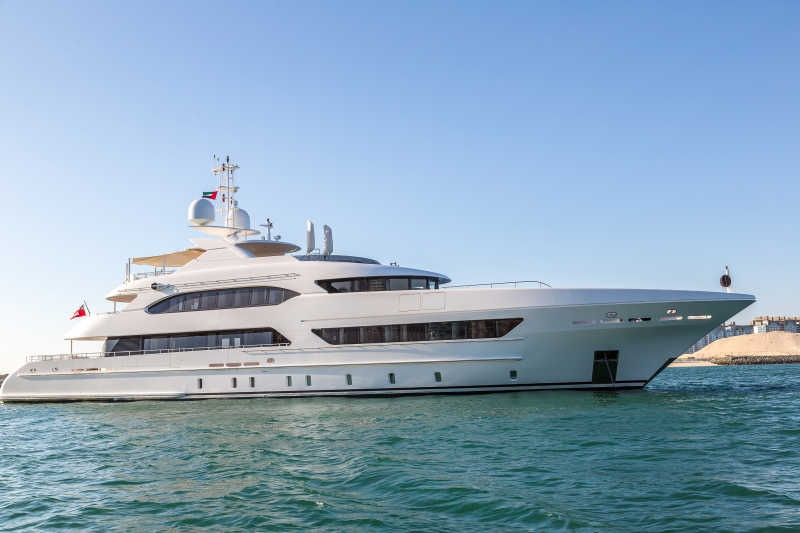yacht: (3, 156, 755, 405)
